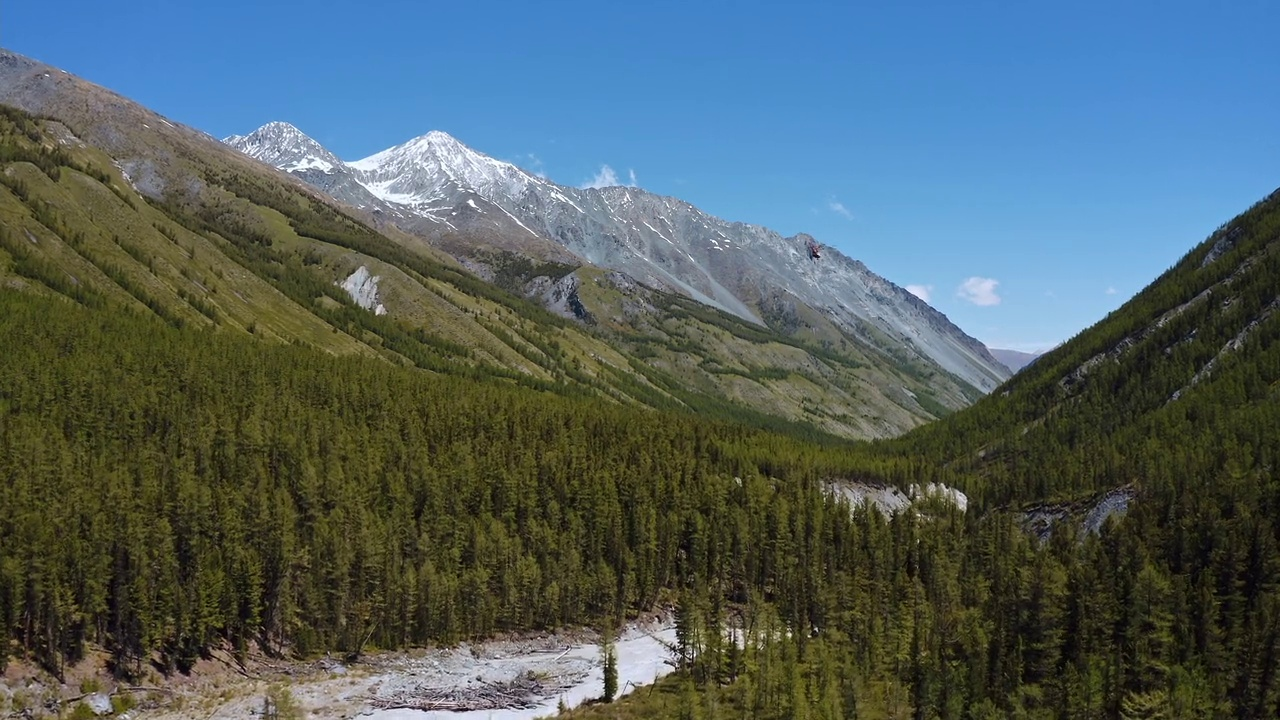heli: (800, 238, 833, 261)
